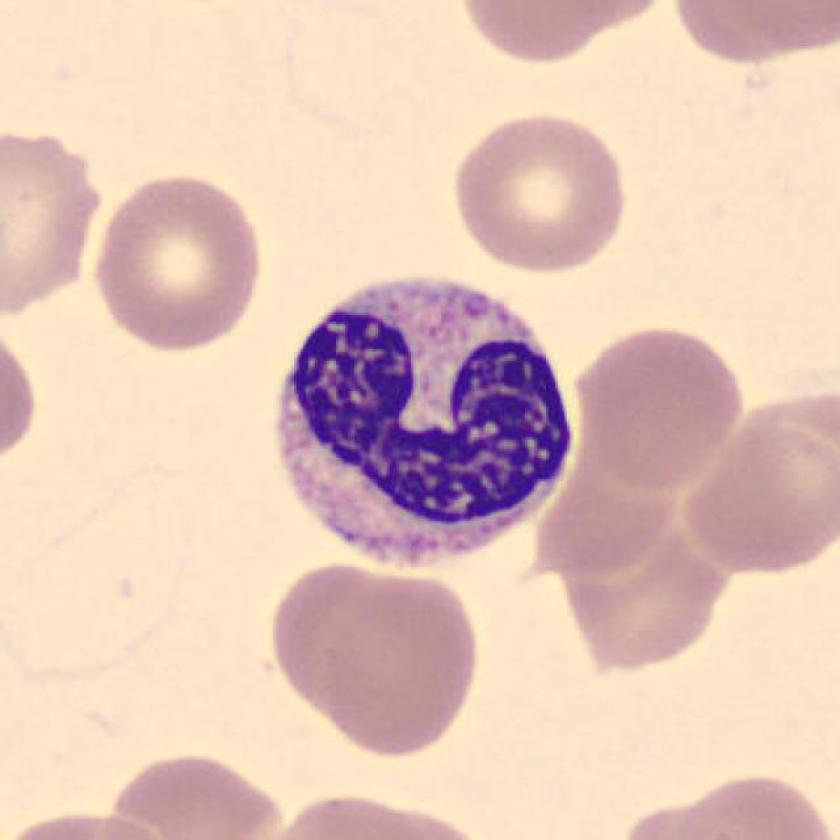neutrophil: (281, 279, 573, 568)
